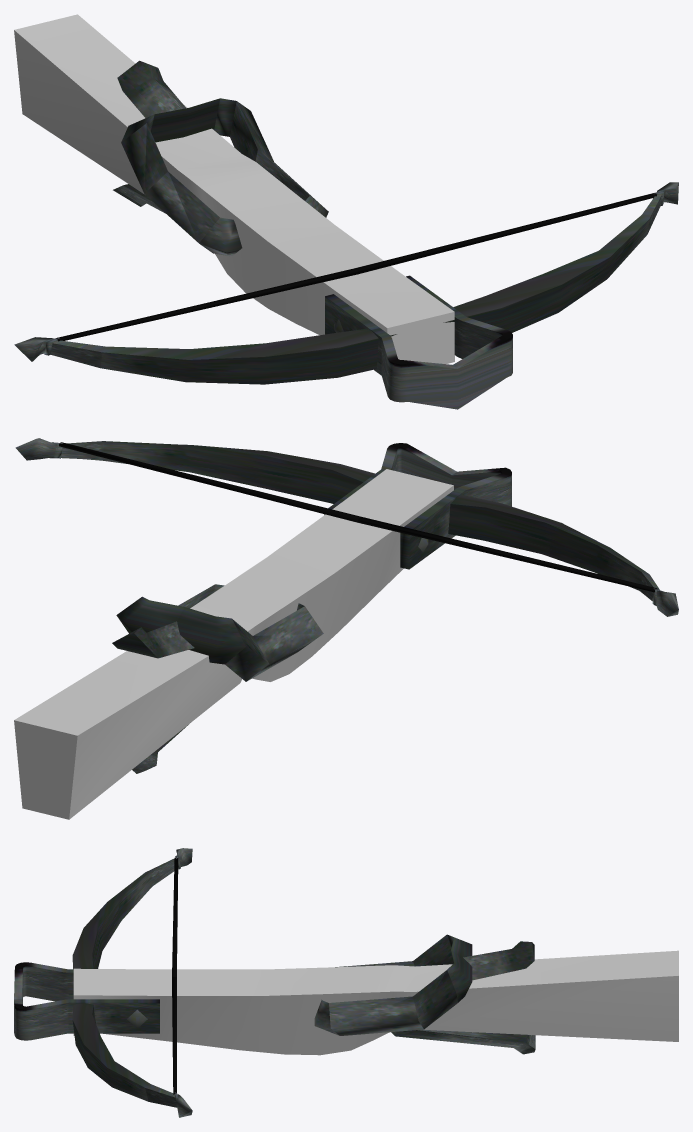
The model's file is OrcCrossBow.obj.
The picture shows the model from 3 angles, top to bottom: view 1: azimuth 30°, elevation 25°; view 2: azimuth 150°, elevation 25°; view 3: azimuth 270°, elevation 25°; orthographic projection. The views are drawn at different scales.
Visible parts, largest first — view 1: Mesh07, Mesh06; view 2: Mesh06, Mesh07; view 3: Mesh06, Mesh07.
Boxes of the visible parts, box(x1,y1,x2,y2) form: Mesh07: box(14, 60, 678, 409); Mesh06: box(14, 14, 454, 363); Mesh06: box(14, 469, 453, 819); Mesh07: box(15, 438, 678, 773); Mesh06: box(73, 950, 678, 1055); Mesh07: box(14, 848, 535, 1117).
Bounding box in the file's own units: 50.87 × 10.4 × 54.61.
